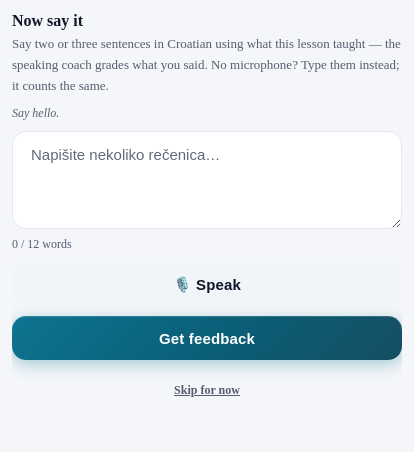
Scenario: the spoken production steps name a failed recogniser › the lesson produce step says the mic is blocked and keeps the typed box
What coordinates should you click on to do the following:
click the button with test id "produce-mic"
I would click on:
 (207, 284)
Its box is [12, 262, 402, 306].
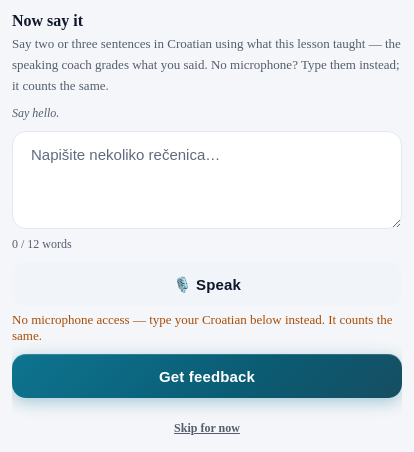
Check: the text box with test id "produce-input" is enabled, box [12, 131, 402, 229]
Check: the message with test id "produce-mic-error" shows "No microphone access", box [12, 312, 392, 343]
Note: A fresh start clears the message.
What coordinates should you click on to do the following:
click the button with test id "produce-mic"
I would click on:
 (207, 284)
Its box is [12, 262, 402, 306].
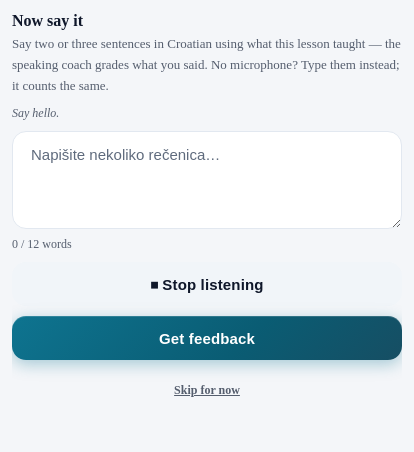
Check: the message with test id "produce-mic-error" is gone
